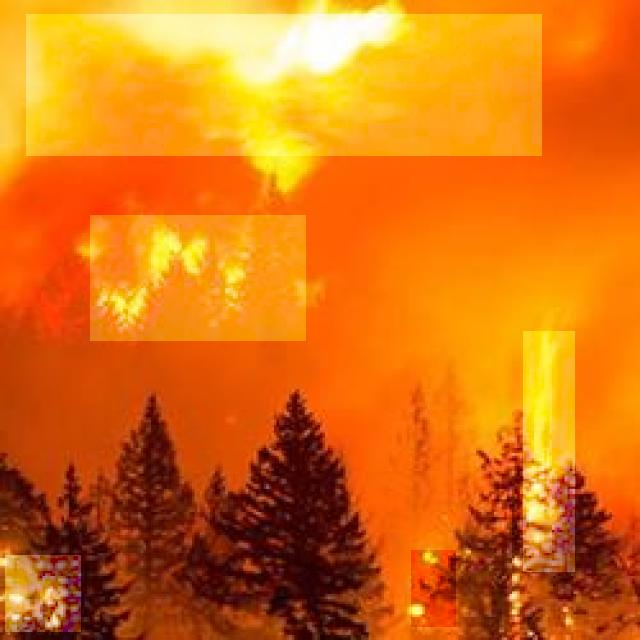Fire: (90, 216, 306, 342), (172, 0, 414, 74), (524, 331, 576, 572), (5, 555, 81, 632), (411, 550, 456, 627)
Smoke: (26, 14, 542, 156)
